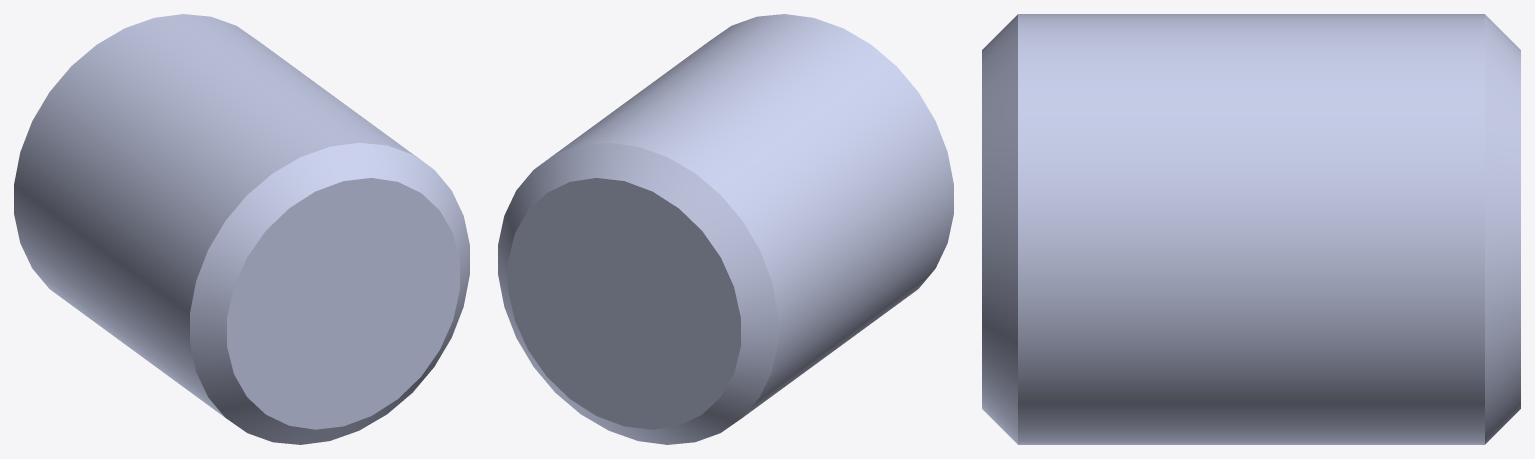
The model's file is raw.fbx.
3 renders of one model, left to right at view 1: azimuth 30°, elevation 25°; view 2: azimuth 150°, elevation 25°; view 3: azimuth 270°, elevation 25°, orthographic. The views are drawn at different scales.
Visible parts, largest first — view 1: yuanliao; view 2: yuanliao; view 3: yuanliao.
Part boxes in pixels (<box>): yuanliao: <box>14,14,469,444</box>; yuanliao: <box>498,14,953,444</box>; yuanliao: <box>982,14,1520,444</box>.
Bounding box in the file's own units: 11.93 × 12 × 15.
